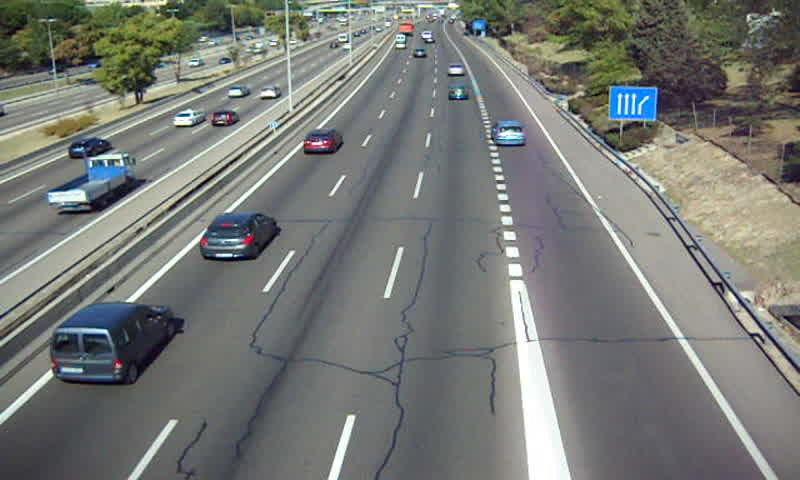car: (199, 212, 278, 259), (302, 130, 342, 154), (490, 120, 525, 145), (446, 83, 469, 99), (447, 62, 466, 74)
van: (50, 303, 174, 385)
